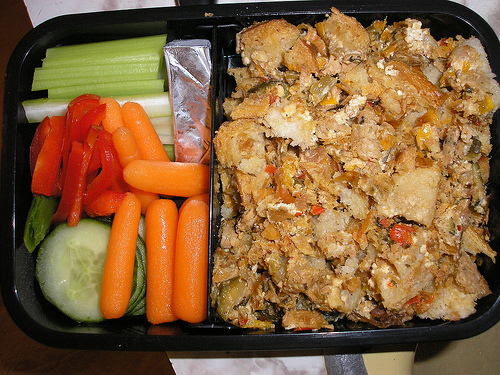cucumber: (38, 219, 140, 326)
